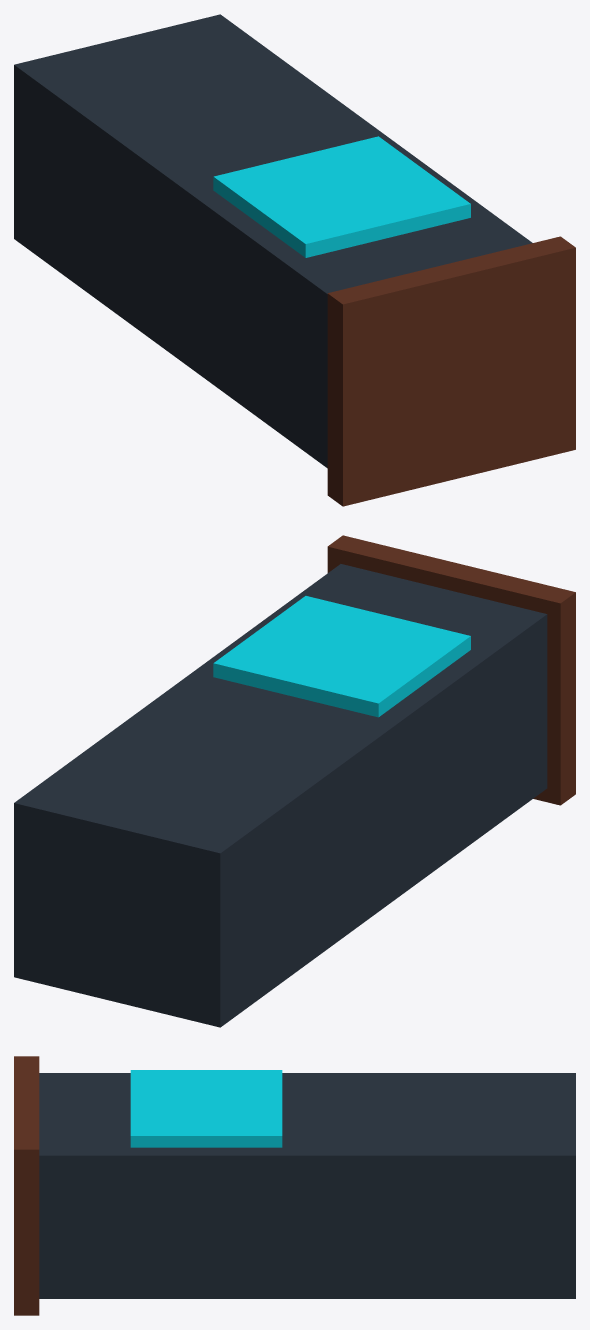
Rendered from ENV_prop_terminal.obj.
3 views of the same model, one above another, from view 1: azimuth 30°, elevation 25°; view 2: azimuth 150°, elevation 25°; view 3: azimuth 270°, elevation 25° (orthographic). The views are drawn at different scales.
Parts seen in each view (by area): view 1: ENV_prop_terminal; view 2: ENV_prop_terminal; view 3: ENV_prop_terminal.
Boxes of the visible parts, <box> form: ENV_prop_terminal: <box>14,14,575,506</box>; ENV_prop_terminal: <box>14,535,575,1027</box>; ENV_prop_terminal: <box>14,1056,575,1315</box>.
Size of the model in its own units: 0.7 by 0.58 by 1.78.
